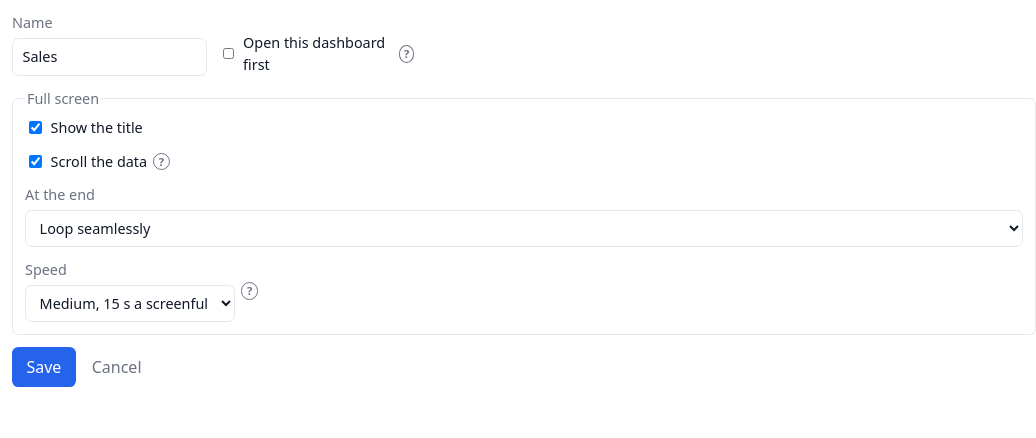
it: offers the landing choice when editing, and says why a save was refused
Expected: the field labelled "Name" holds "Sales", [12,38,207,76]
Click the checkbox labelled "Open this dashboard first".
click(229, 54)  # box [223,48,234,60]
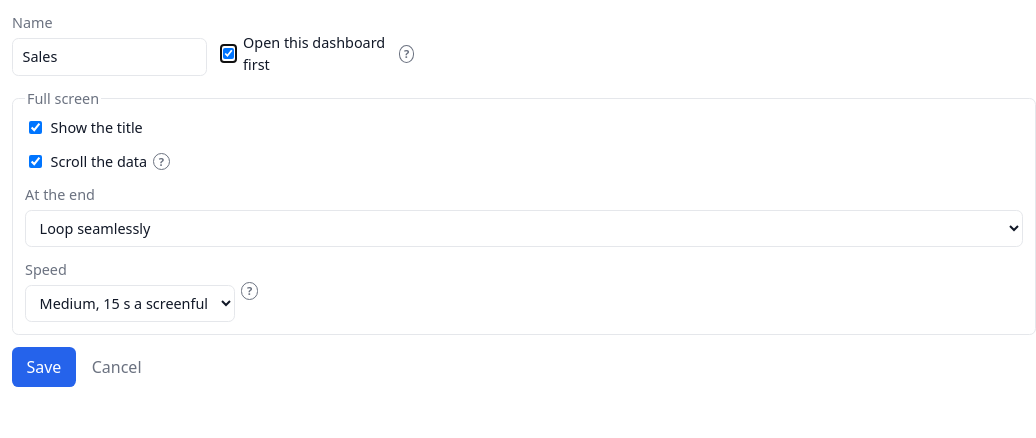
Click the button "Save".
click(44, 367)  # box [12,347,76,387]
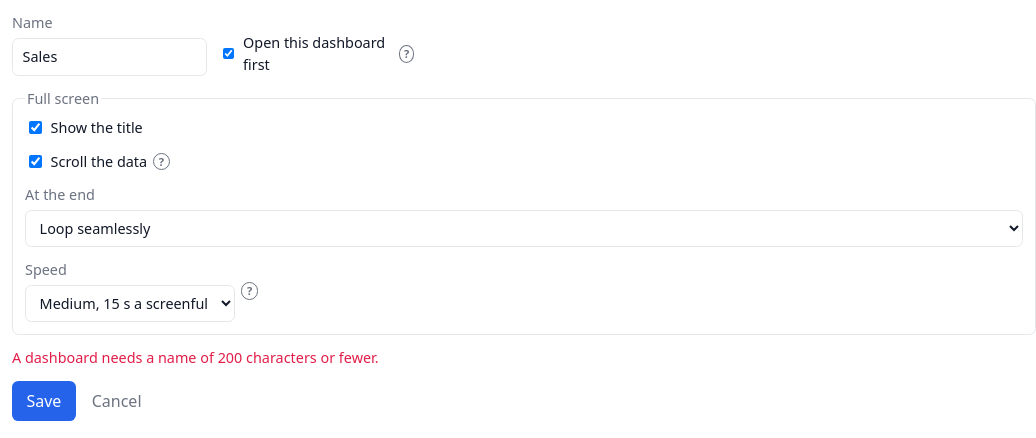
Expected: the text "A dashboard needs a name of 200 characters or fewer." is shown, [12,348,379,367]
